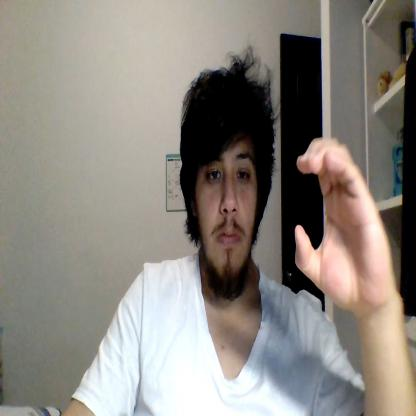C: (295, 139, 394, 316)
